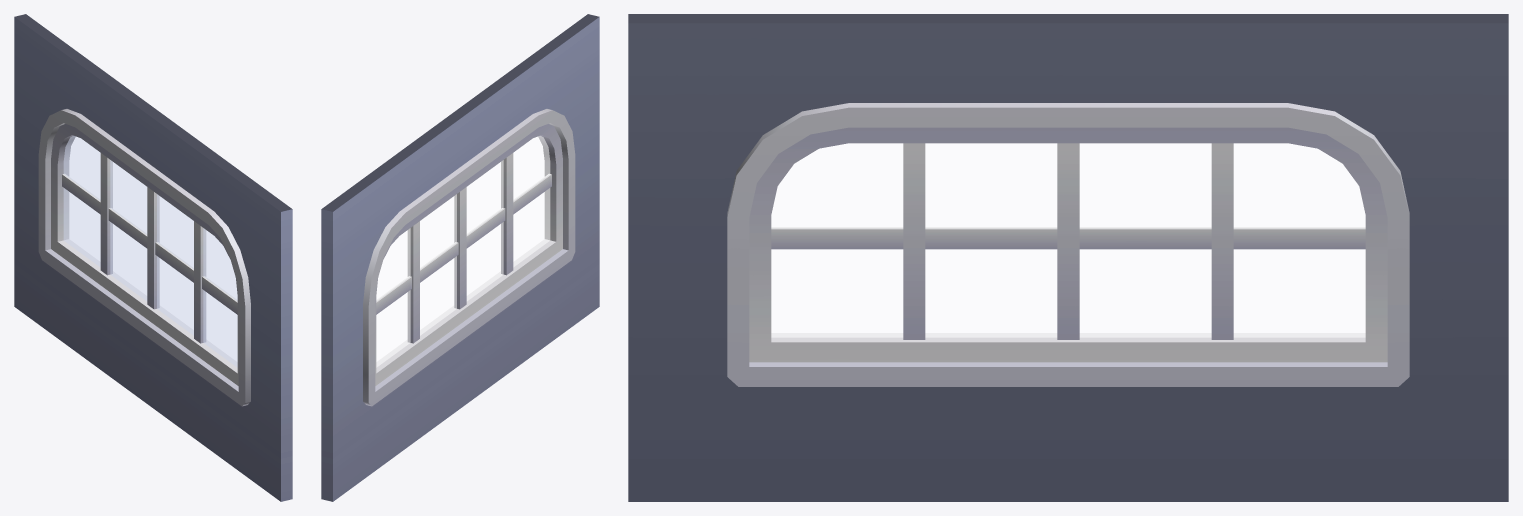
File: kenney-building-wall-window-wide-round-detailed.glb
The picture shows the model from 3 angles, left to right: view 1: azimuth 30°, elevation 25°; view 2: azimuth 150°, elevation 25°; view 3: azimuth 270°, elevation 25°; orthographic projection. The views are drawn at different scales.
Parts seen in each view (by area): view 1: wall-window-wide-round-detailed, (%ignore); view 2: wall-window-wide-round-detailed, (%ignore); view 3: wall-window-wide-round-detailed, (%ignore).
Boxes of the visible parts, bbox=[...] form: wall-window-wide-round-detailed: bbox=[14, 14, 292, 501]; (%ignore): bbox=[63, 136, 237, 367]; wall-window-wide-round-detailed: bbox=[321, 14, 599, 501]; (%ignore): bbox=[376, 136, 550, 367]; wall-window-wide-round-detailed: bbox=[628, 14, 1508, 501]; (%ignore): bbox=[771, 143, 1365, 337].
Size of the model in its own units: 0.2002 by 2.4 by 4.
2 materials, 1 textured.
